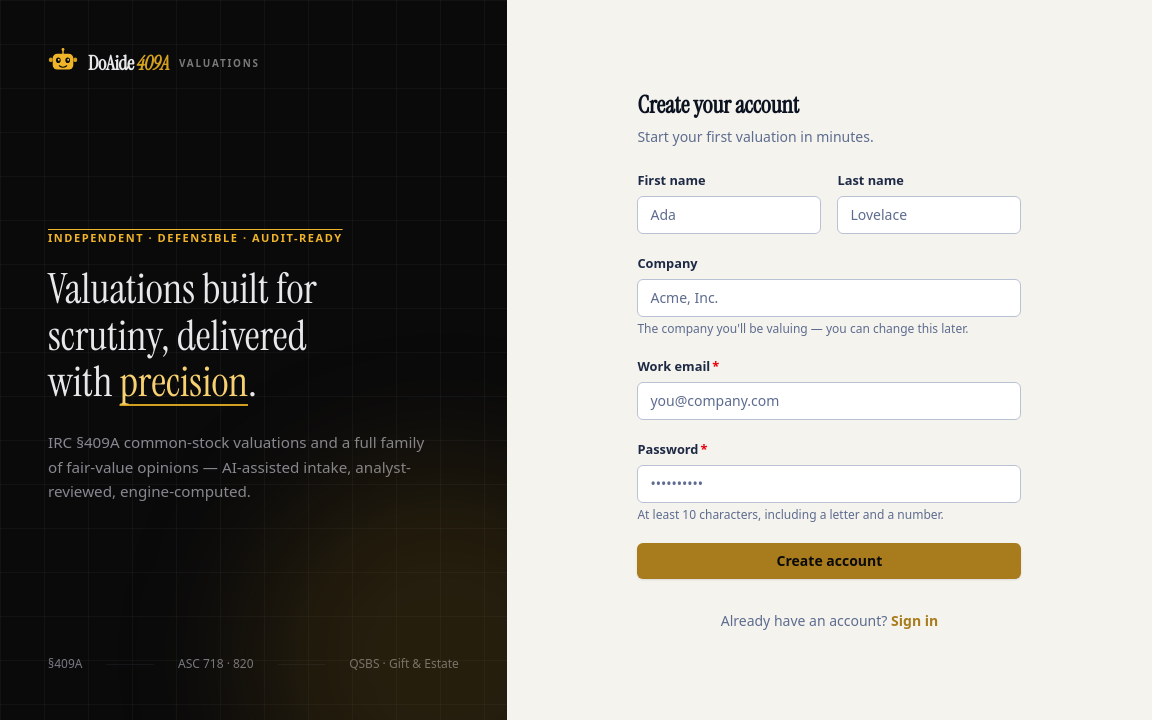
RegisterPage › flags a malformed email on blur, before anything is submitted
The image size is (1152, 720).
In the field labelled "Work email": (829, 401) [637,382,1021,420], type "ada@"
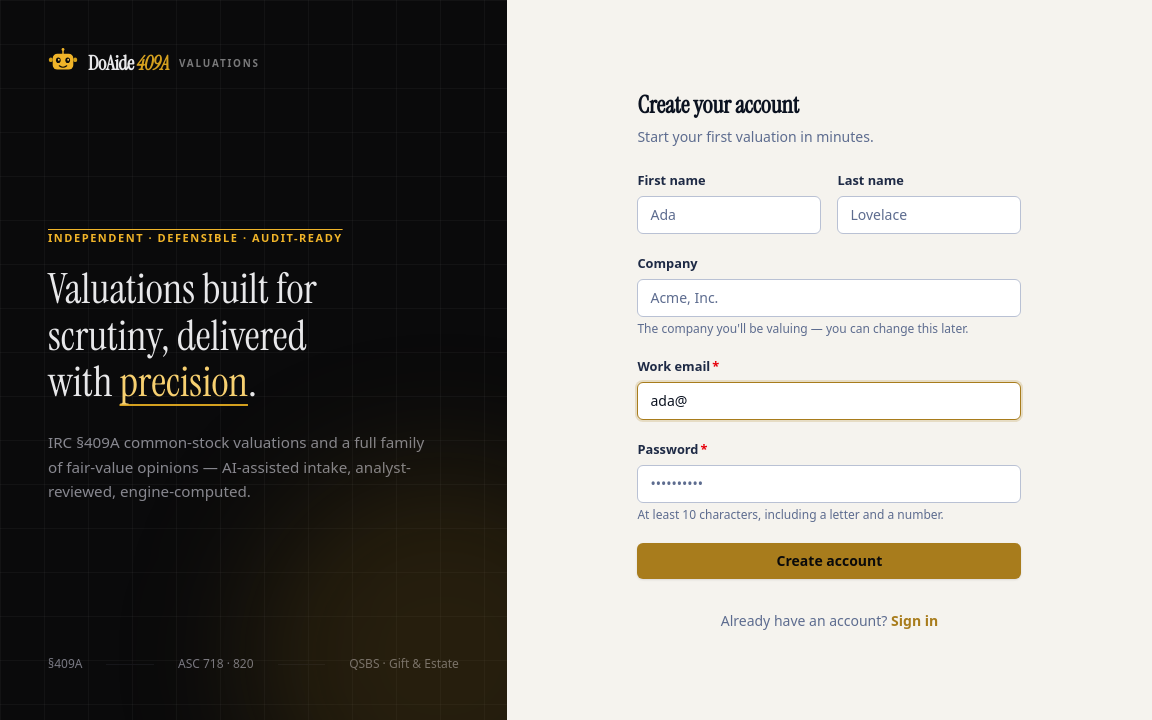
Press Tab
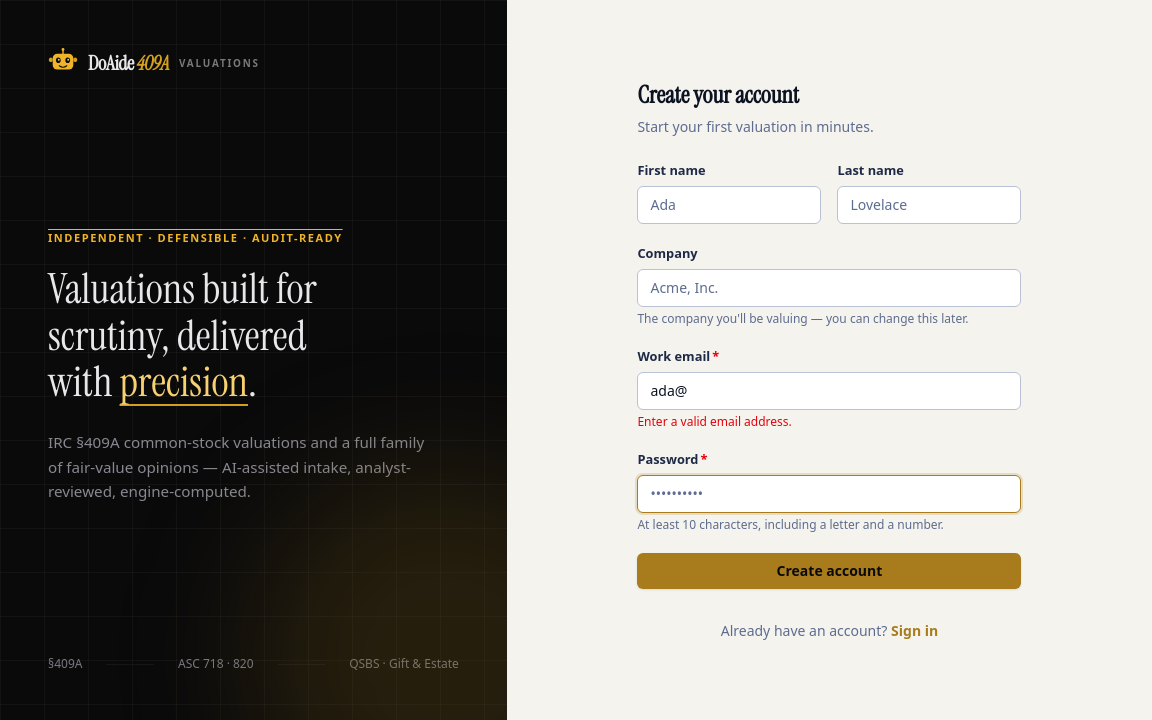
Expected: the text "Enter a valid email address." is shown, [637,413,792,430]
